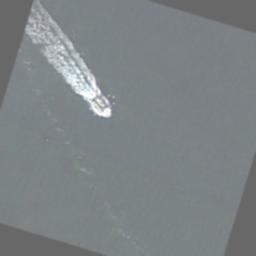boat: (84, 90, 116, 120)
